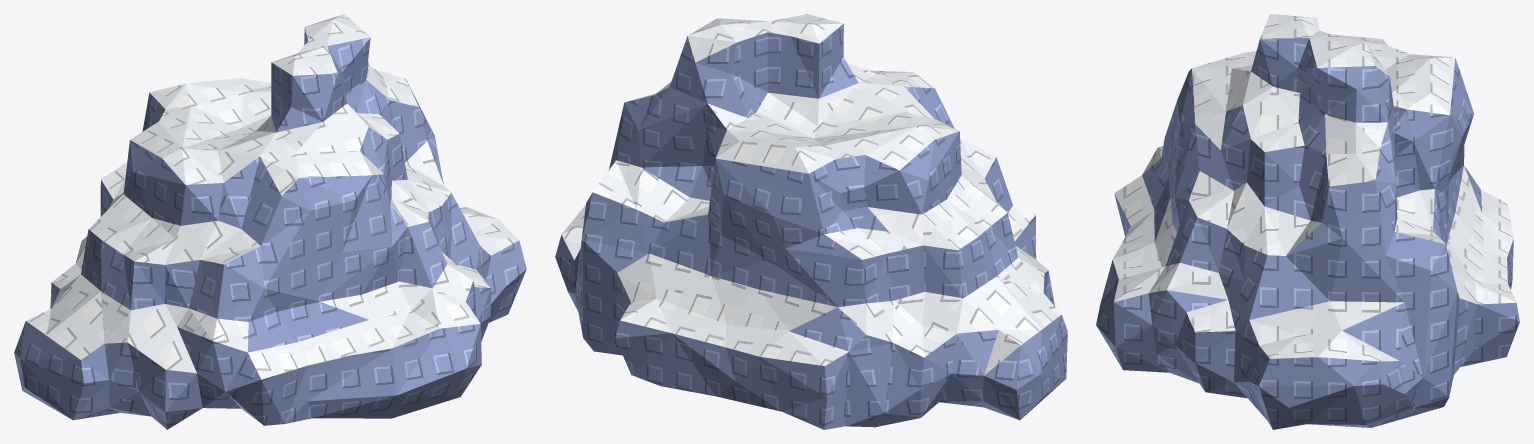
Rendered from IceLedge.glb.
3 renders of one model, left to right at view 1: azimuth 30°, elevation 25°; view 2: azimuth 150°, elevation 25°; view 3: azimuth 270°, elevation 25°, orthographic. The views are drawn at different scales.
Parts seen in each view (by area): view 1: IceLedge_Rock, IceLedge_Top; view 2: IceLedge_Rock, IceLedge_Top; view 3: IceLedge_Rock, IceLedge_Top.
Boxes of the visible parts, left/top/right/bottom form: IceLedge_Rock: left=14, top=28, right=526, bottom=429; IceLedge_Top: left=26, top=14, right=518, bottom=379; IceLedge_Rock: left=555, top=24, right=1067, bottom=429; IceLedge_Top: left=561, top=14, right=1061, bottom=375; IceLedge_Rock: left=1096, top=38, right=1519, bottom=429; IceLedge_Top: left=1112, top=14, right=1516, bottom=361.
Size of the model in its own units: 16.53 by 10.81 by 12.44.
Materials: 2 (2 with a texture image).
